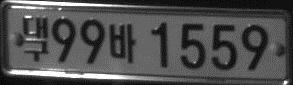1: (147, 21, 175, 68)
5: (210, 23, 238, 71), (179, 22, 206, 69)
9: (241, 24, 269, 70), (50, 16, 76, 62), (79, 18, 105, 64)
대구_V: (22, 14, 49, 62)
바: (108, 22, 136, 63)
